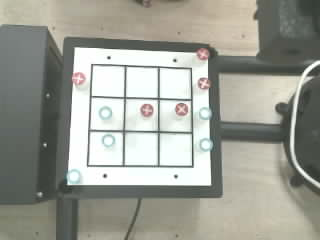blue circle: (67, 169, 81, 183), (102, 134, 115, 147), (99, 106, 111, 119), (200, 138, 212, 151), (199, 107, 211, 119)
board: (67, 48, 213, 185)
cells: (89, 132, 122, 165), (125, 133, 157, 165), (160, 134, 192, 165), (91, 98, 123, 129), (126, 99, 157, 130), (160, 100, 191, 131), (92, 66, 124, 96), (160, 68, 191, 98), (126, 67, 157, 97)
grid: (87, 64, 193, 167)
red cross: (72, 72, 85, 85), (175, 103, 188, 115), (198, 78, 211, 90), (140, 104, 153, 116), (197, 48, 209, 60)
